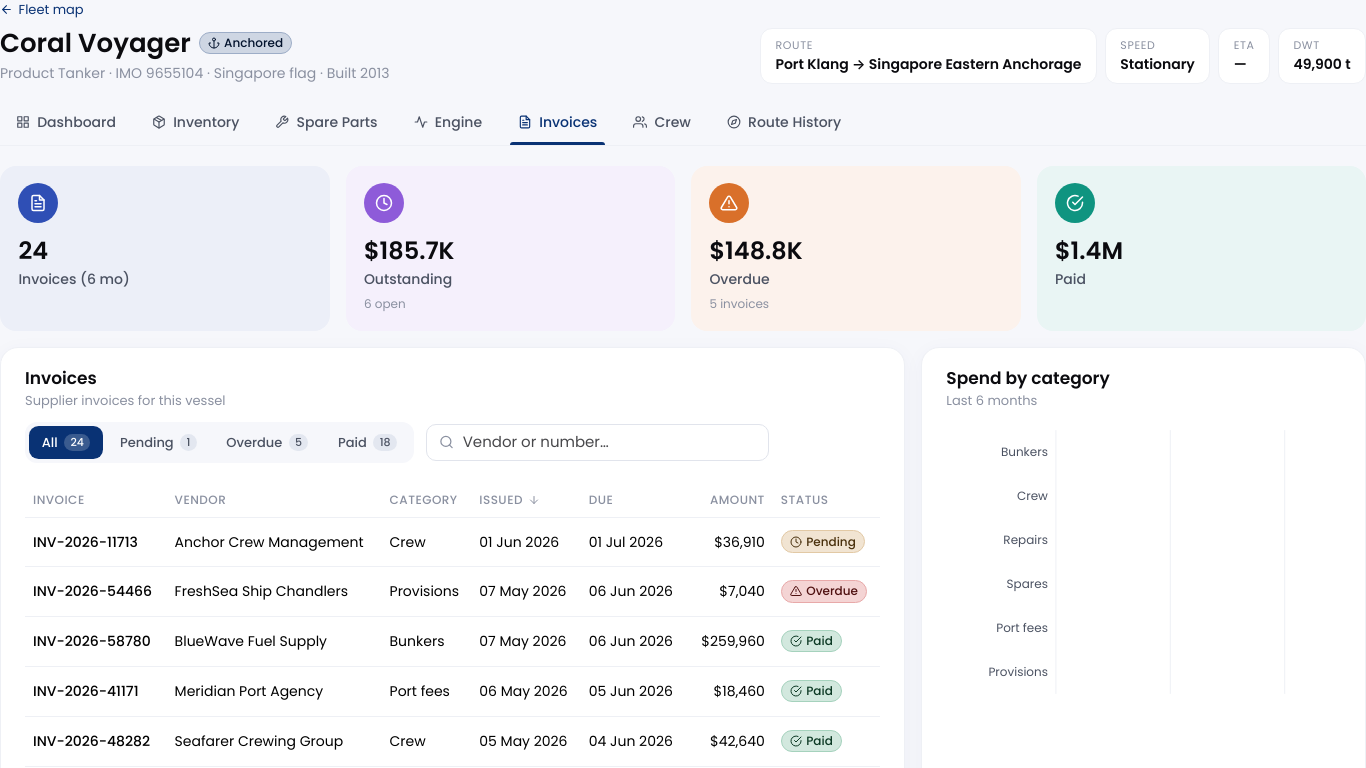
Test case: invoices page › filters by status in a read-only table
What coordinates should you click on to do the following:
click the radio button labelled "Paid 18"
I would click on:
 (368, 442)
Its box is [325,426,410,459].
(page scrolled)
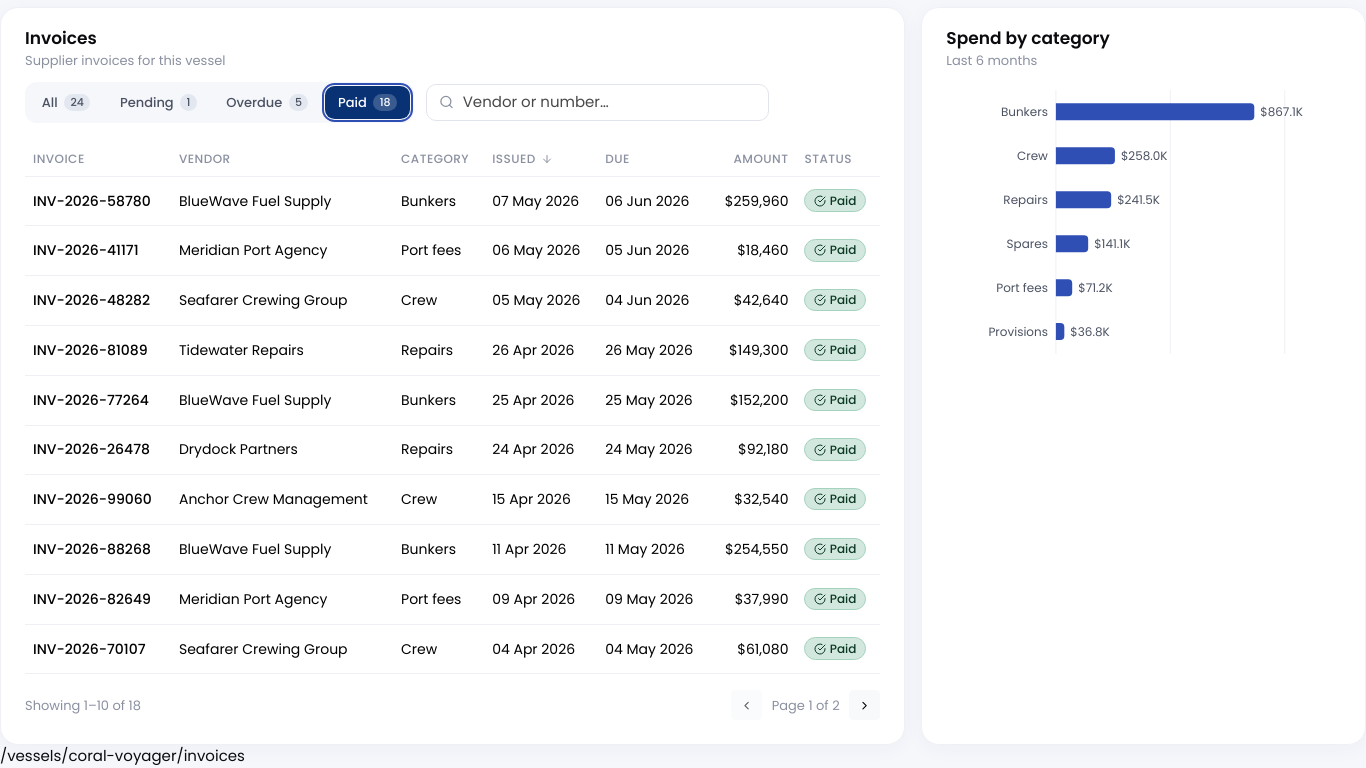
Expected: the row that starts with "INV-2026-58780" shows "Paid", [830,192,856,209]
Now the row that starts with "INV-2026-82649" shows "Paid", box [830,590,856,607]
Now the row that starts with "INV-2026-70107" shows "Paid", box [830,640,856,657]
